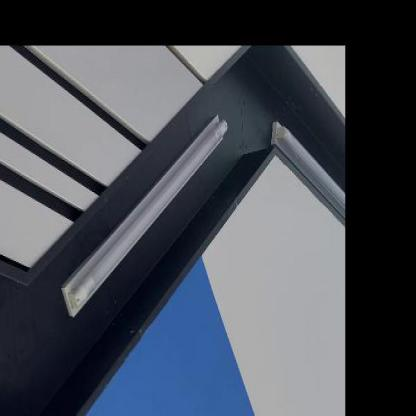light_off: (55, 95, 232, 328), (264, 92, 346, 280)
